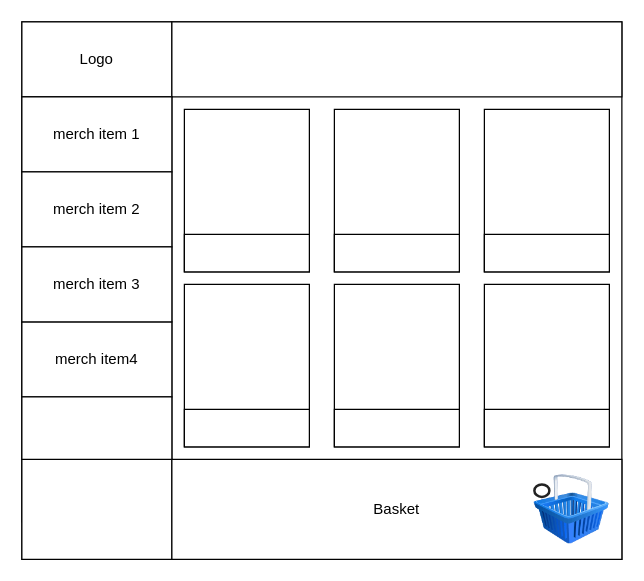
The diagram is 644 pixels wide and 581 high, and some of its shapes have lost their labels. The shapes that lost their labels are listed below. From the top down, each one's centre as x and y in pixels, then its label:
At pixel 396 59: "Company name".
At pixel 96 427: "merch item 5".
At pixel 96 508: "Sponsor logo".
